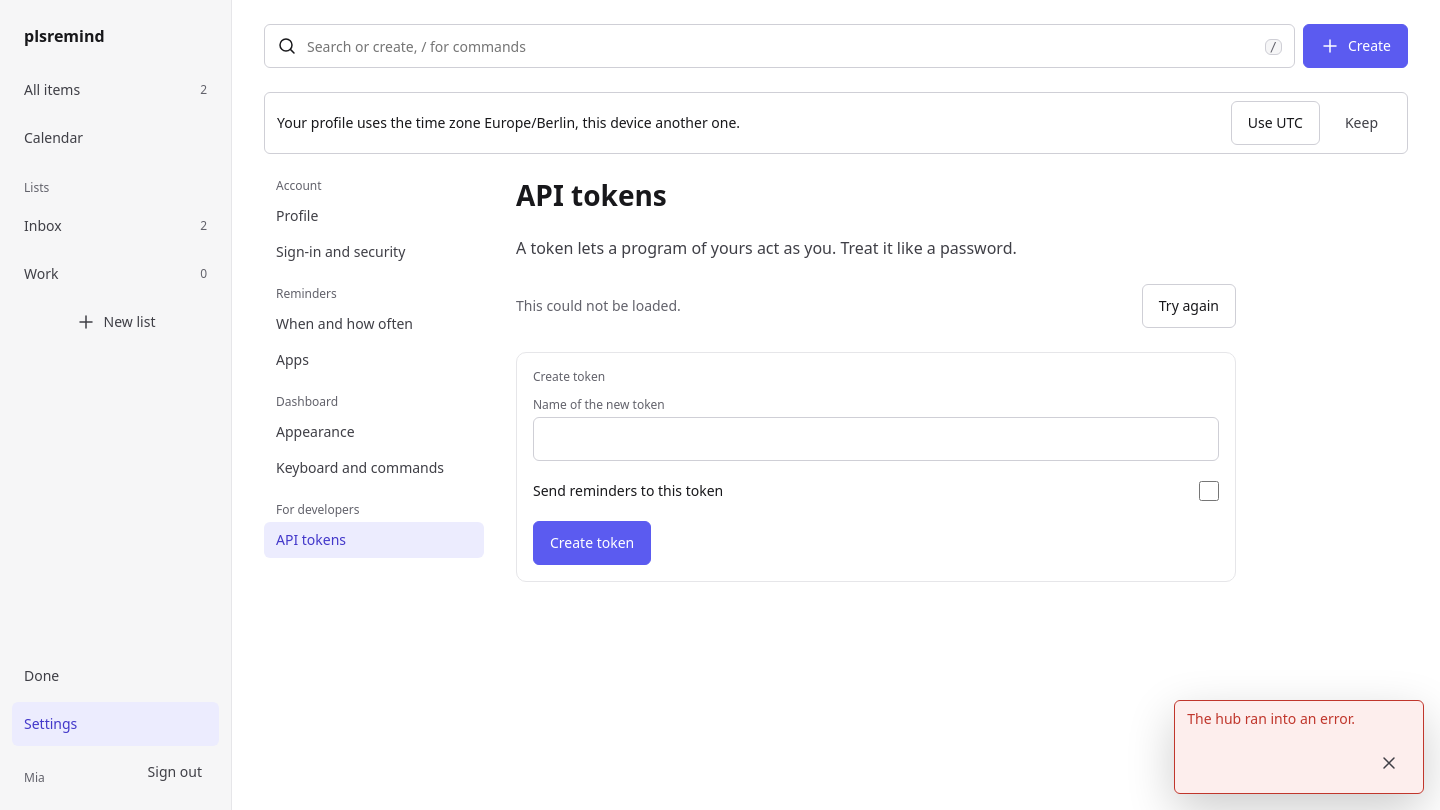
Test: a list of tokens that did not load can be asked for again
Expected: the navigation bar named "Settings" is shown, x1=264 y1=178 x2=484 y2=558
Click the button "Try again".
click(1189, 306)  # box x1=1142 y1=284 x2=1236 y2=328
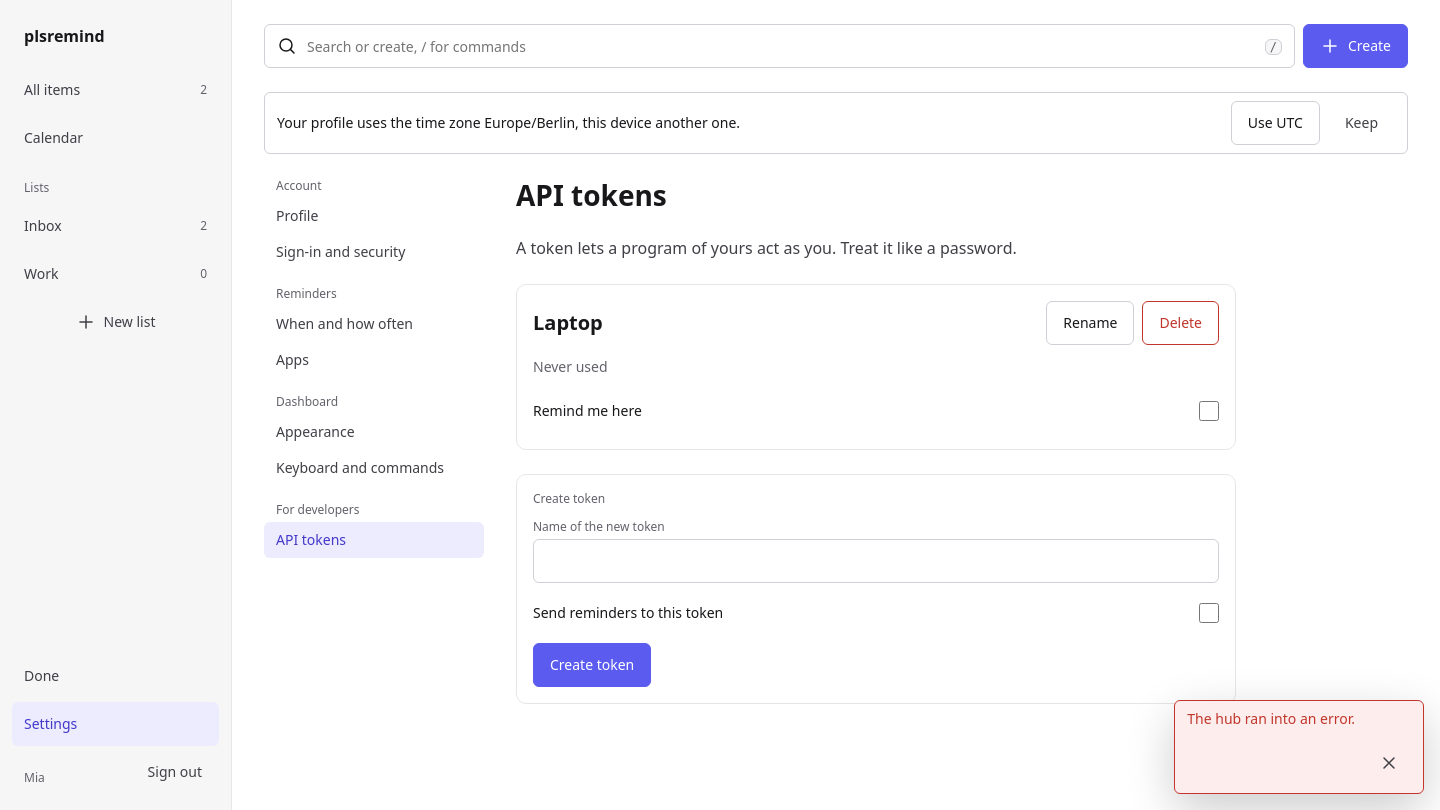
Expected: the element "Laptop" is shown, x1=516 y1=284 x2=1236 y2=450
